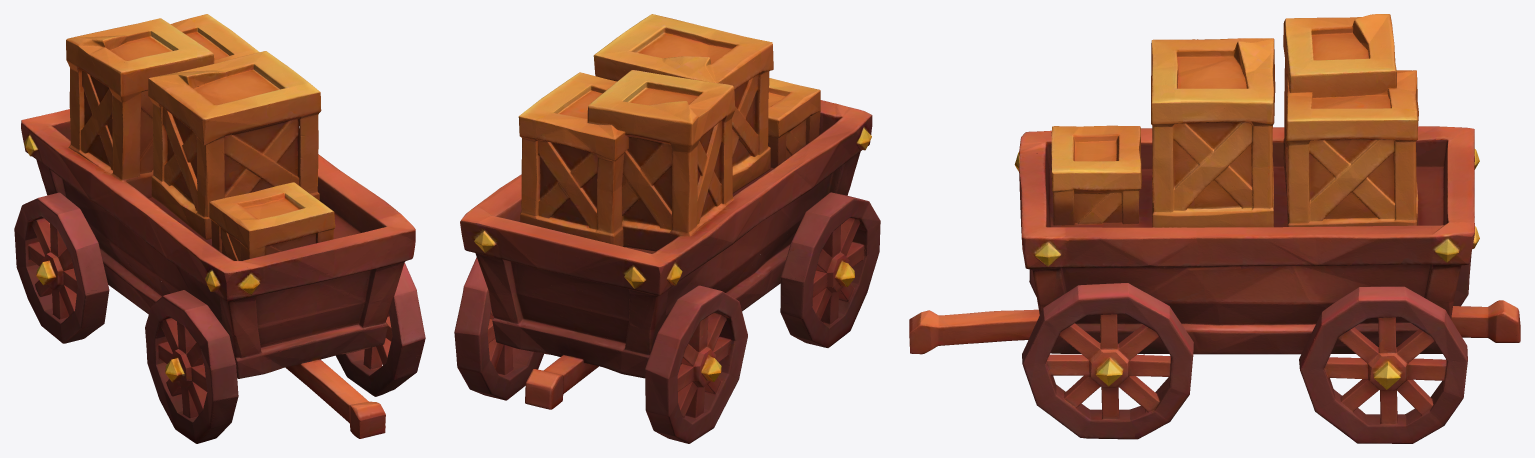
File: KeepSakeWoodenVehicle.glb
3 views of the same model, side by side, from view 1: azimuth 30°, elevation 25°; view 2: azimuth 150°, elevation 25°; view 3: azimuth 270°, elevation 25° (orthographic). The views are drawn at different scales.
Visible parts, largest first — view 1: tripo_node_d4d86f7b-99c8-4b3b-8611-1391df7895af; view 2: tripo_node_d4d86f7b-99c8-4b3b-8611-1391df7895af; view 3: tripo_node_d4d86f7b-99c8-4b3b-8611-1391df7895af.
Boxes of the visible parts, x1,y1,x2,y2 form: tripo_node_d4d86f7b-99c8-4b3b-8611-1391df7895af: [14, 14, 425, 443]; tripo_node_d4d86f7b-99c8-4b3b-8611-1391df7895af: [454, 14, 880, 443]; tripo_node_d4d86f7b-99c8-4b3b-8611-1391df7895af: [909, 14, 1520, 443].
Size of the model in its own units: 0.4797 by 0.5949 by 0.9795.
1 material, 1 textured.
